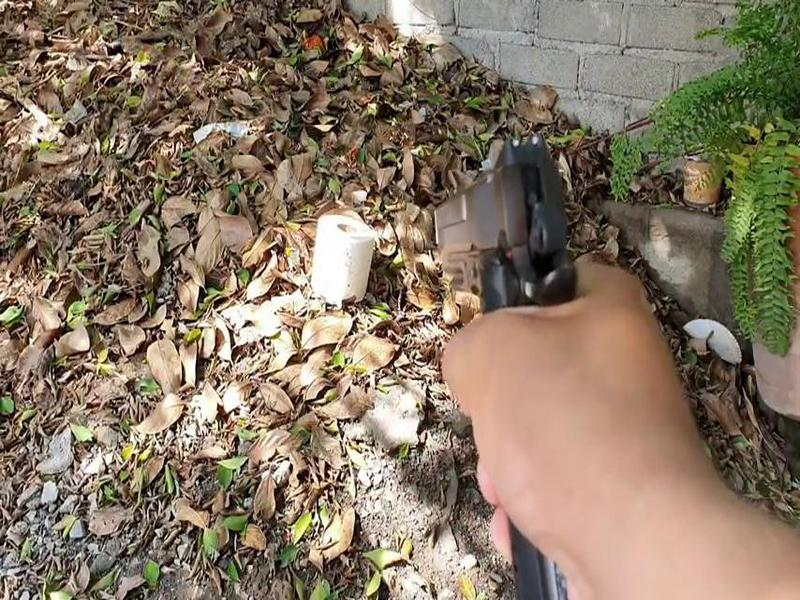Pistola: (393, 150, 606, 600)
